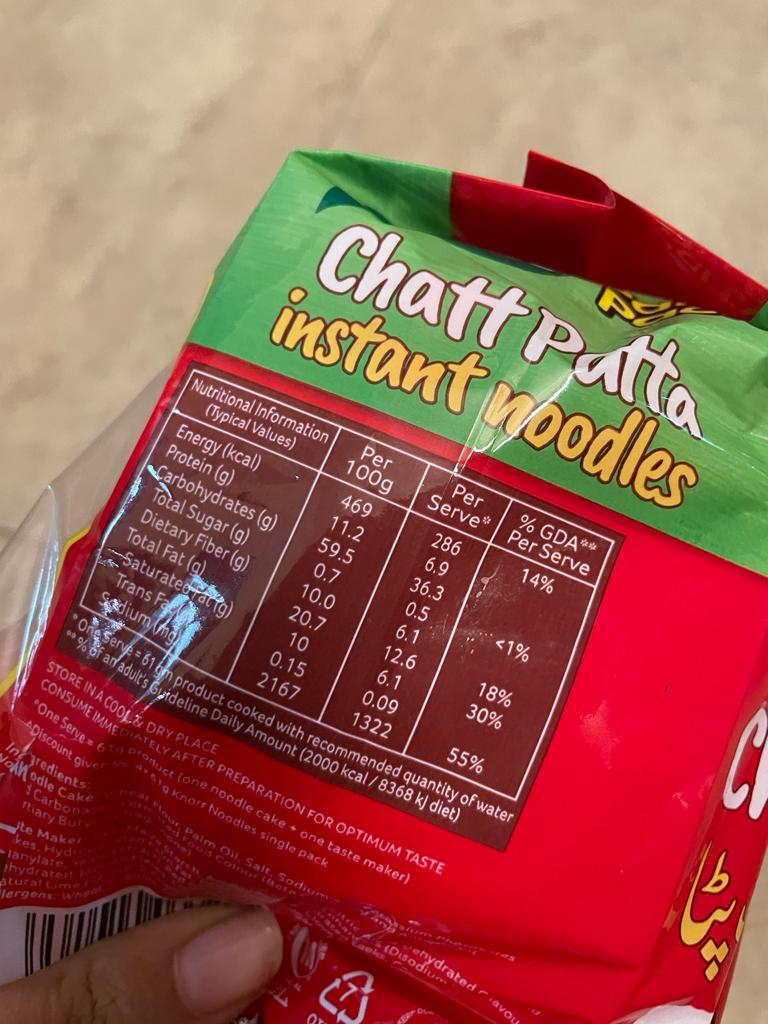table: (56, 354, 622, 856)
